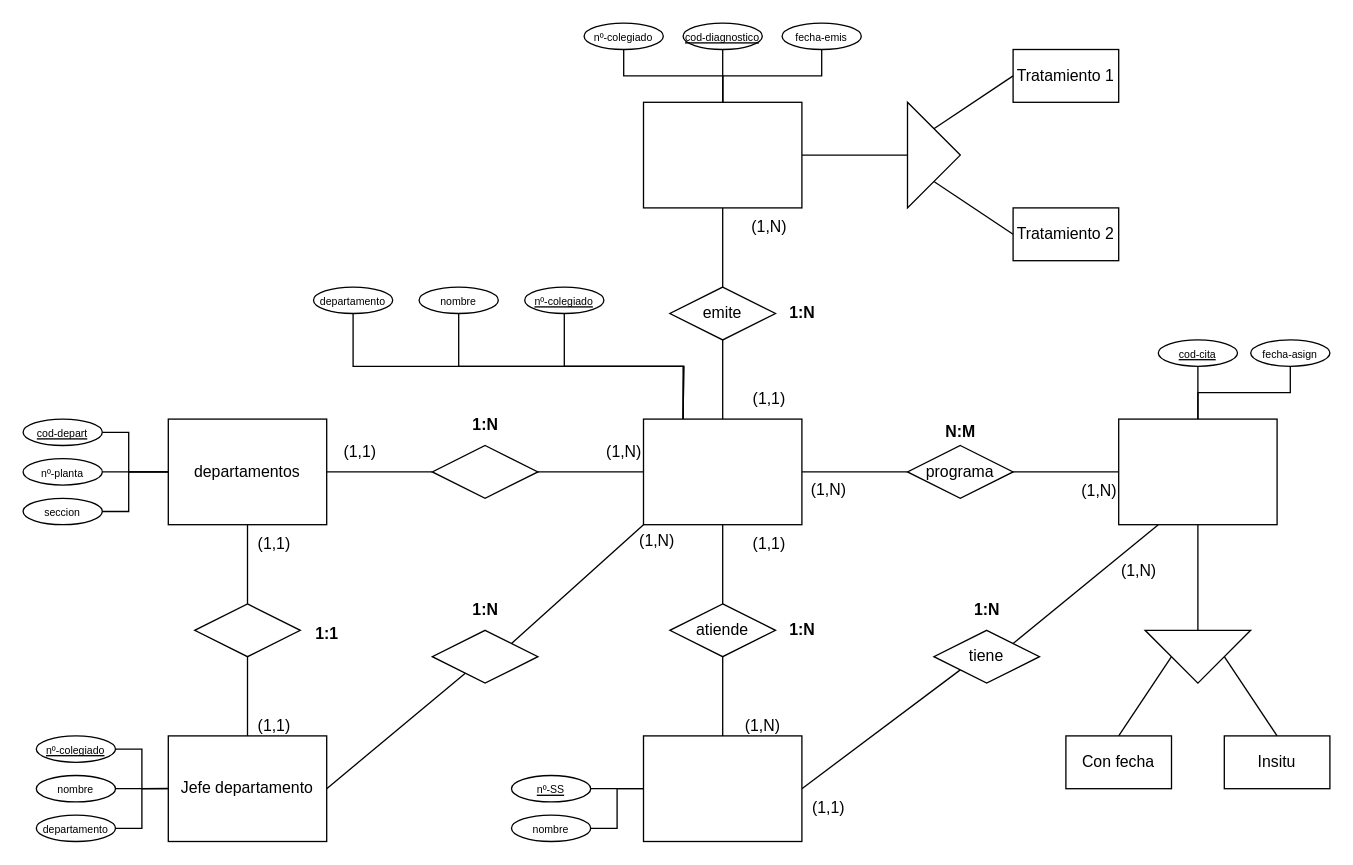
Image size: 1353x865. Some labels were removed from this diagram. Each missing label, with the centre of its shape:
"Citas" belongs at [1197,471].
"Diagnosticos" belongs at [722,154].
"dirige" belongs at [246,630].
"Medicos" belongs at [722,471].
"Pacientes" belongs at [722,788].
"supervisa" belongs at [484,656].
"trabaja" belongs at [484,471].
